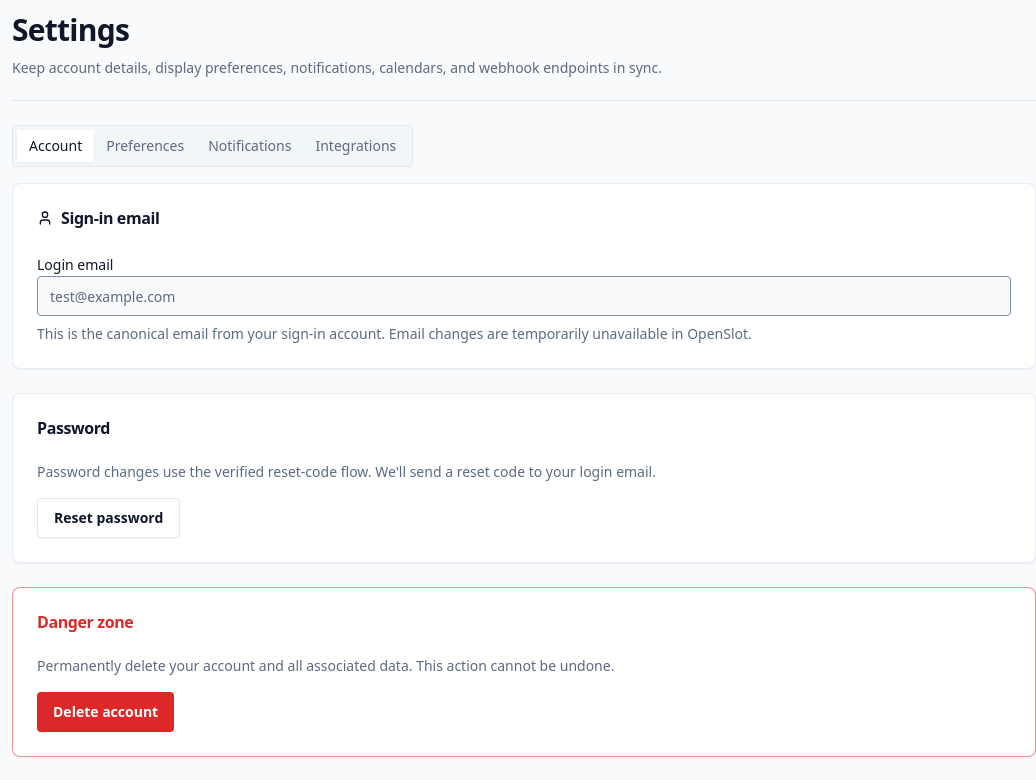
SettingsClient › clears the notifications dirty baseline after its save succeeds
Click the tab "Notifications": coordinates (250, 146) [196,130,304,162]
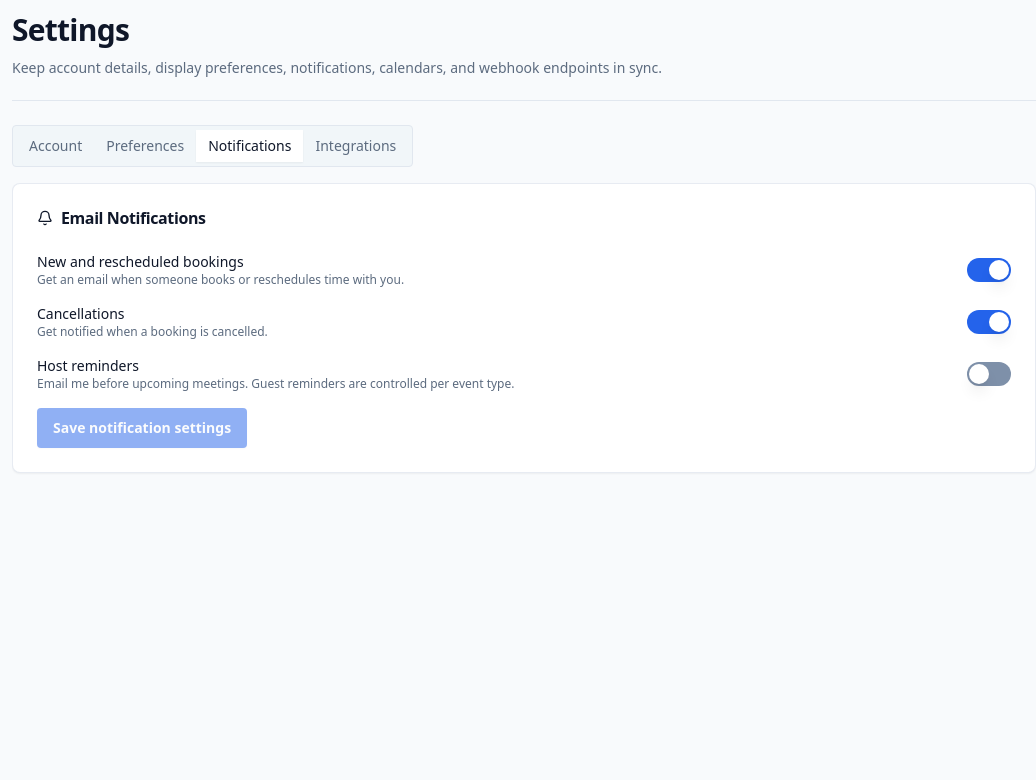
Click the switch named "Toggle cancellation notifications": coordinates (989, 322) [967,310,1011,334]
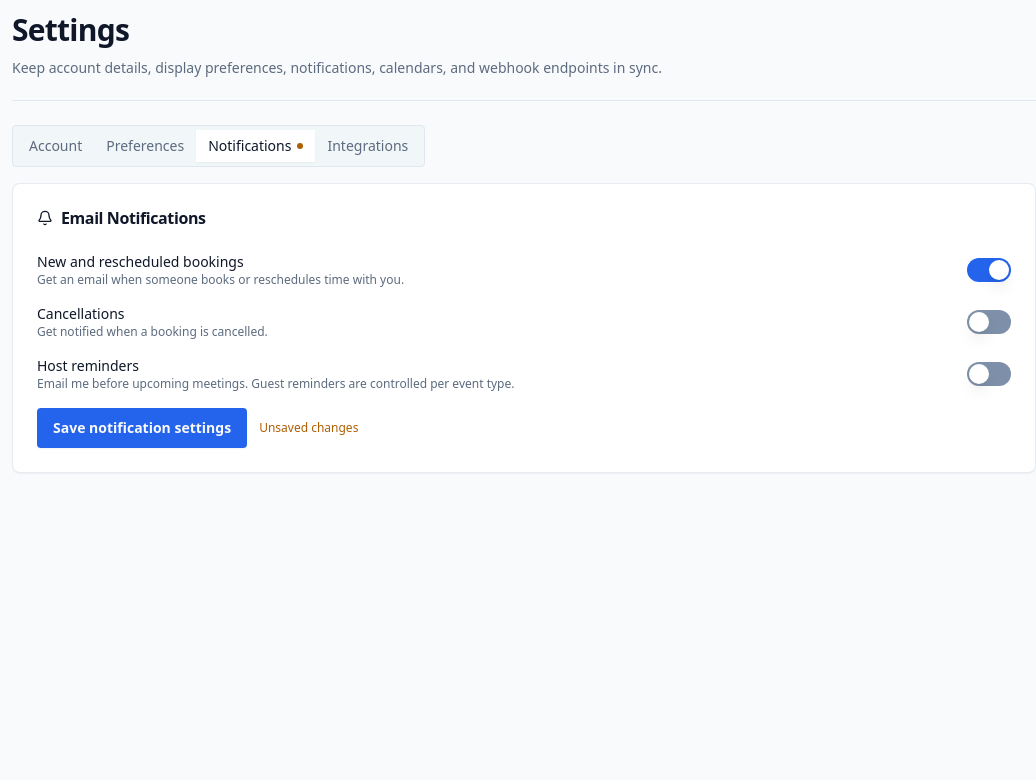
Expected: the tab with aria-label "Notifications, unsaved changes" is shown, [196,130,316,162]
Click the button "Save notification settings": coordinates (142, 428) [37,408,247,448]
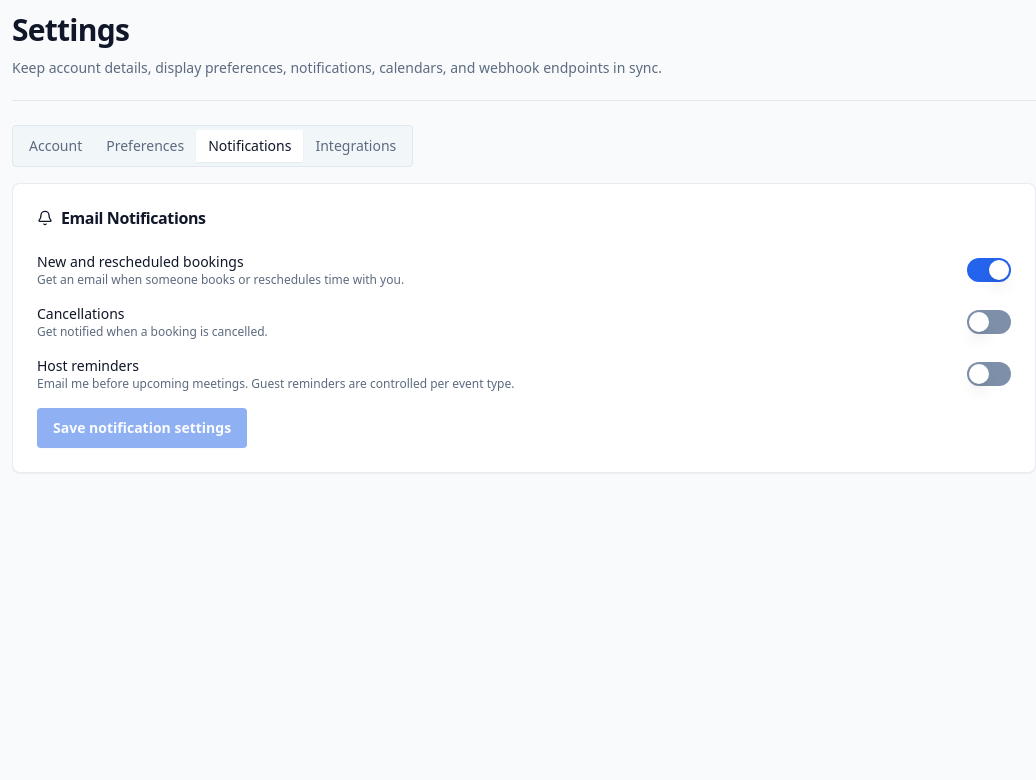
Expected: the tab "Notifications" is shown, [196,130,304,162]
Expected: the button "Save notification settings" is disabled, [37,408,247,448]
